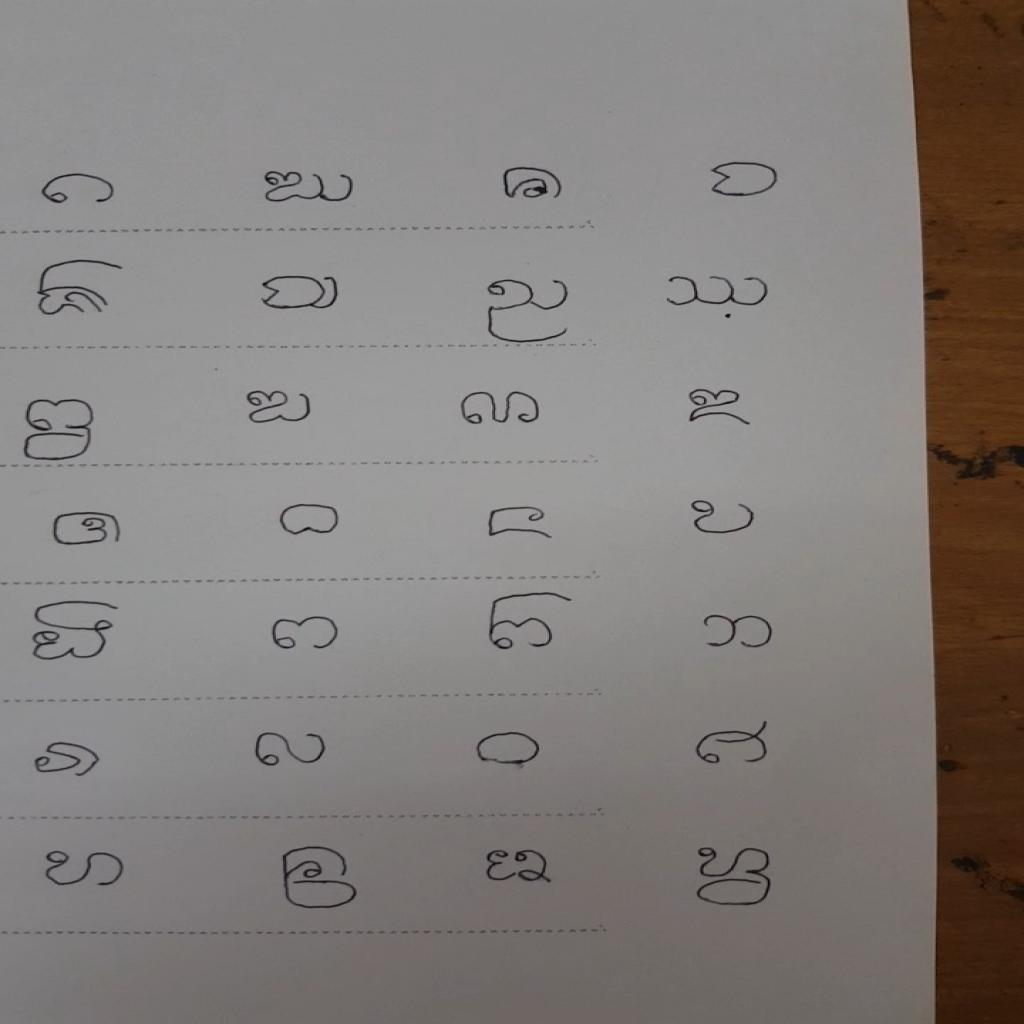LN003: (36, 169, 123, 212)
LN004: (259, 167, 361, 206)
LN005: (498, 164, 567, 205)
LN006: (707, 158, 784, 201)
LN009: (33, 257, 130, 321)
LN010: (256, 271, 346, 314)
LN011: (481, 275, 577, 345)
LN012: (659, 272, 775, 311)
LN015: (21, 394, 97, 464)
LN016: (240, 387, 317, 428)
LN017: (455, 388, 547, 431)
LN018: (683, 385, 758, 431)
LN021: (47, 509, 127, 549)
LN022: (273, 501, 349, 540)
LN023: (482, 505, 556, 544)
LN024: (687, 496, 760, 538)
LN027: (26, 597, 124, 666)
LN028: (267, 614, 343, 655)
LN029: (482, 589, 576, 655)
LN030: (697, 613, 778, 653)
LN033: (30, 740, 105, 782)
LN034: (249, 730, 331, 772)
LN035: (471, 730, 546, 769)
LN036: (690, 718, 777, 769)
LN039: (37, 849, 130, 892)
LN040: (277, 844, 363, 914)
LN041: (482, 845, 556, 889)
LN042: (690, 842, 777, 910)
